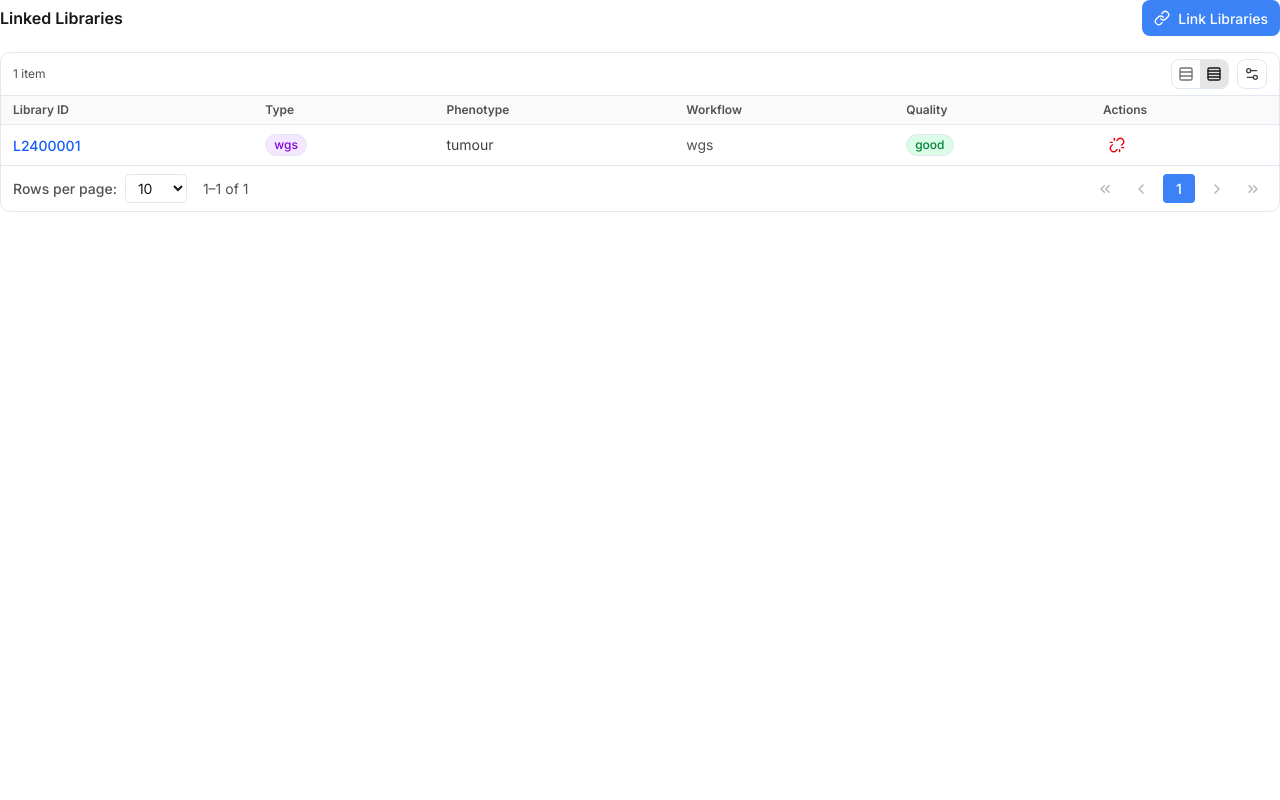
CaseDetailsLinkedLibrariesTab › refreshes and closes the modal after a successful unlink
Click the button named "Unlink library L2400001": [1117, 145] box 1103,131 -> 1131,159
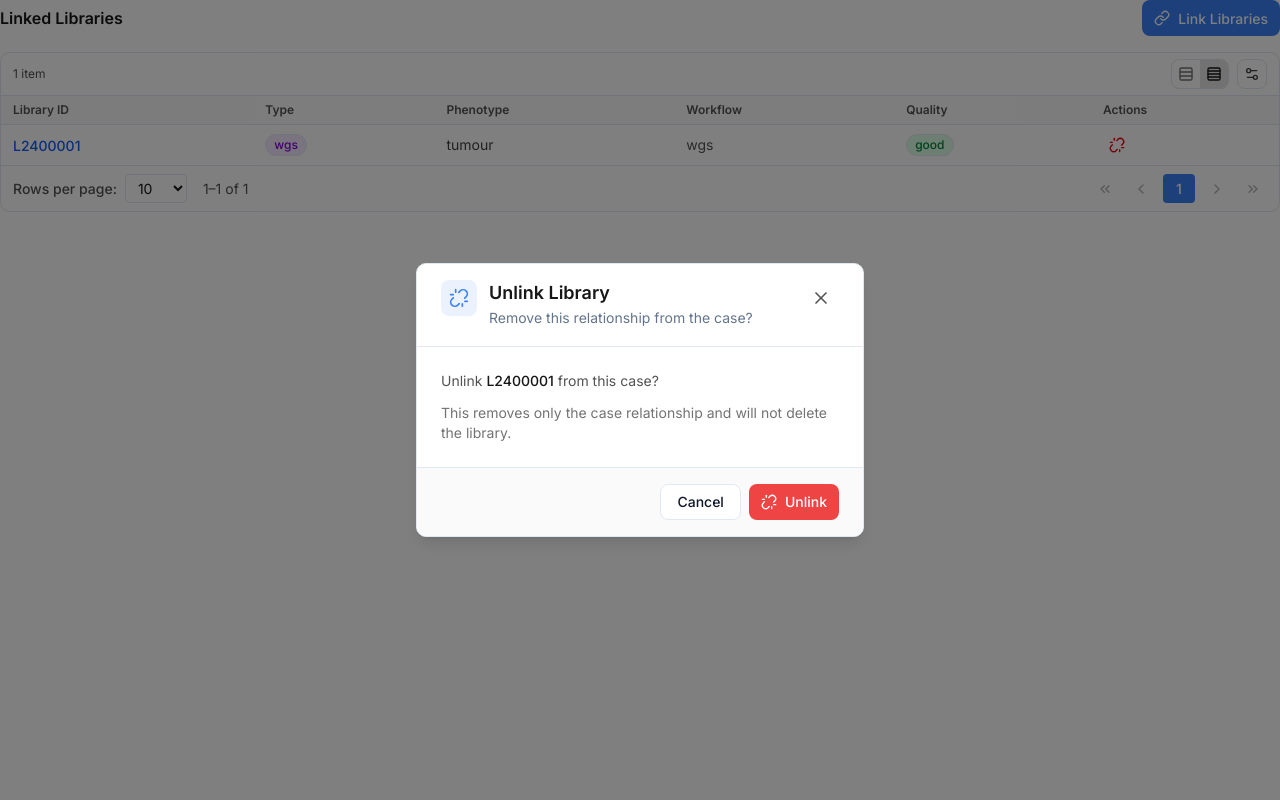
Click the button with aria-label "Confirm unlink library L2400001": [794, 502] box 749,484 -> 839,520
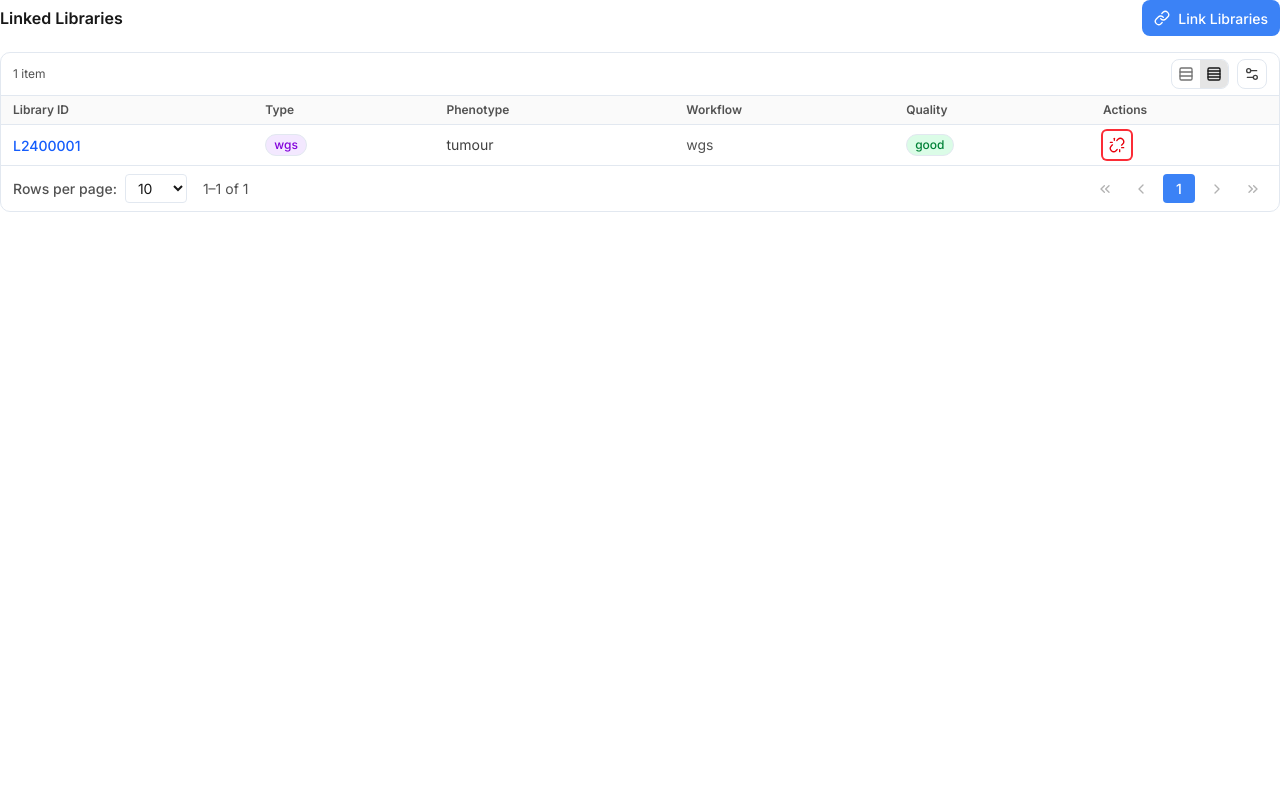
Result: the heading "Unlink Library" is gone
